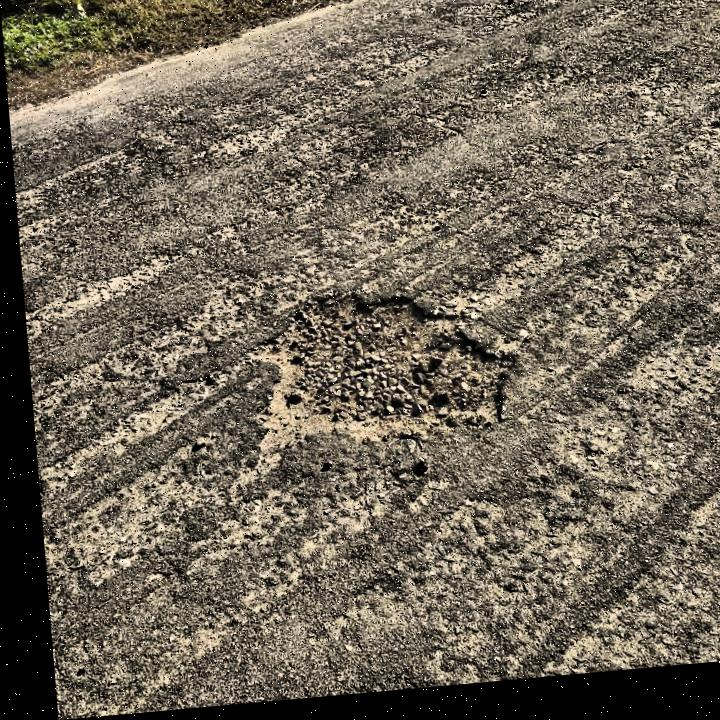pothole: (233, 282, 516, 458)
